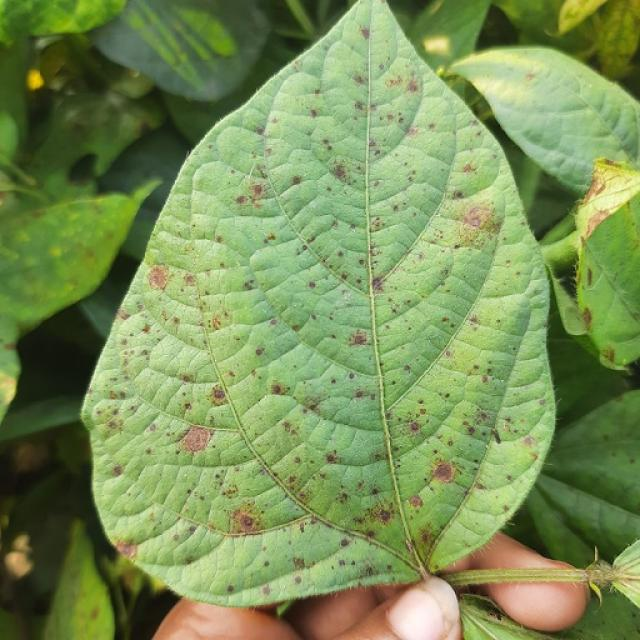Anthracnose: (182, 421, 222, 462), (582, 204, 614, 240), (230, 508, 259, 533), (463, 205, 492, 228), (147, 265, 169, 290), (432, 462, 453, 482), (331, 163, 349, 182), (119, 542, 136, 558), (581, 306, 592, 329), (603, 346, 616, 363), (408, 494, 423, 508), (251, 183, 264, 198), (523, 435, 537, 448), (352, 333, 367, 345), (212, 387, 225, 400), (371, 276, 384, 289), (405, 80, 418, 93), (293, 556, 305, 569), (271, 384, 285, 395), (212, 316, 222, 331), (184, 274, 196, 286), (379, 509, 391, 521), (462, 163, 476, 173), (235, 195, 247, 205), (360, 27, 370, 39), (586, 268, 593, 285), (90, 607, 99, 620), (326, 453, 337, 463), (112, 465, 122, 476), (140, 324, 151, 334), (261, 585, 271, 596), (108, 420, 118, 430), (410, 422, 419, 432), (266, 233, 276, 242), (292, 176, 301, 185), (255, 347, 264, 356), (309, 109, 318, 118), (148, 423, 157, 432), (368, 140, 377, 148), (308, 281, 316, 289), (184, 403, 192, 410), (442, 317, 449, 324)
Blackgram: (84, 0, 554, 605)
